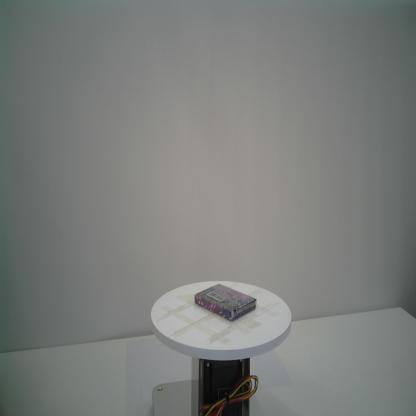Gum: (194, 282, 258, 323)
